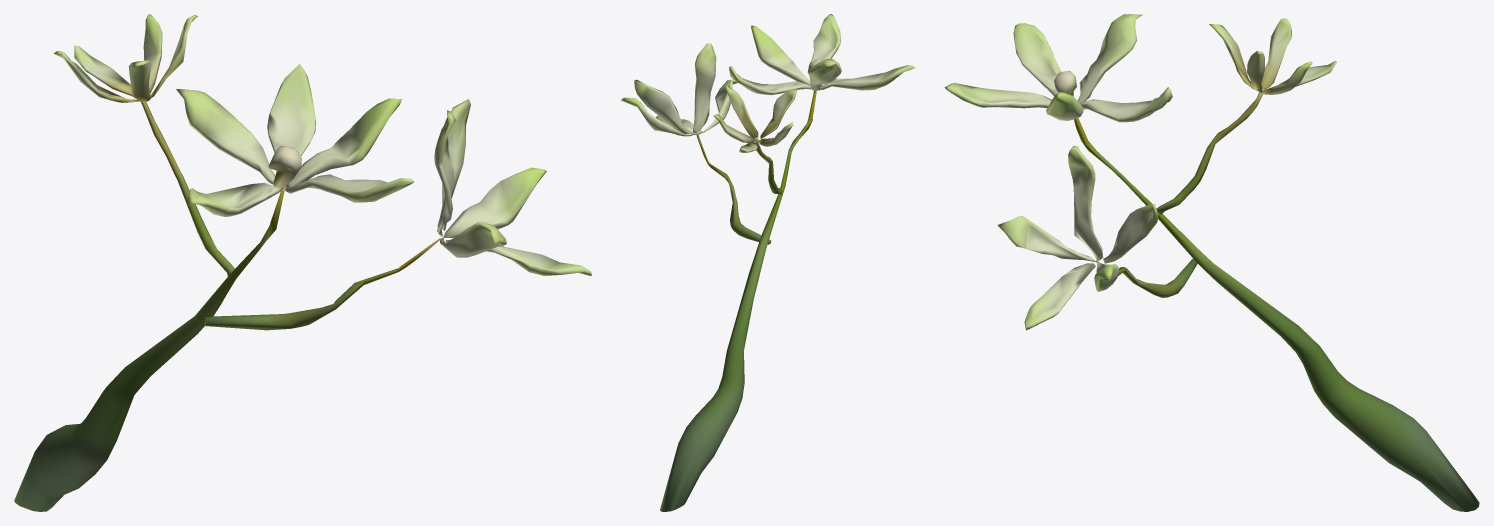
Rendered from mesh_lod_1_0fab2826-bbdb-5585-a9a1-287524e4000e.glb.
3 views of the same model, side by side, from view 1: azimuth 30°, elevation 25°; view 2: azimuth 150°, elevation 25°; view 3: azimuth 270°, elevation 25° (orthographic). The views are drawn at different scales.
Parts seen in each view (by area): view 1: LOD 1_0fab2826-bbdb-5585-a9a1-287524e4000e; view 2: LOD 1_0fab2826-bbdb-5585-a9a1-287524e4000e; view 3: LOD 1_0fab2826-bbdb-5585-a9a1-287524e4000e.
Part boxes in pixels (x1,y1,x2,y2): LOD 1_0fab2826-bbdb-5585-a9a1-287524e4000e: (14, 14, 591, 511); LOD 1_0fab2826-bbdb-5585-a9a1-287524e4000e: (620, 14, 915, 511); LOD 1_0fab2826-bbdb-5585-a9a1-287524e4000e: (944, 14, 1479, 511).
Size of the model in its own units: 7.97 by 10.64 by 10.92.
